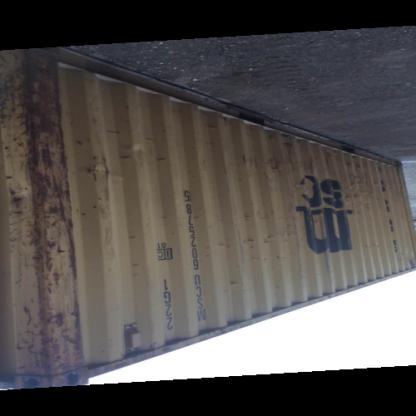Damage: (1, 47, 83, 377), (87, 132, 122, 246), (227, 152, 323, 183), (336, 152, 379, 206), (203, 227, 281, 251), (252, 124, 298, 150), (350, 238, 386, 258), (200, 112, 224, 140), (219, 274, 245, 296), (146, 146, 172, 168)
